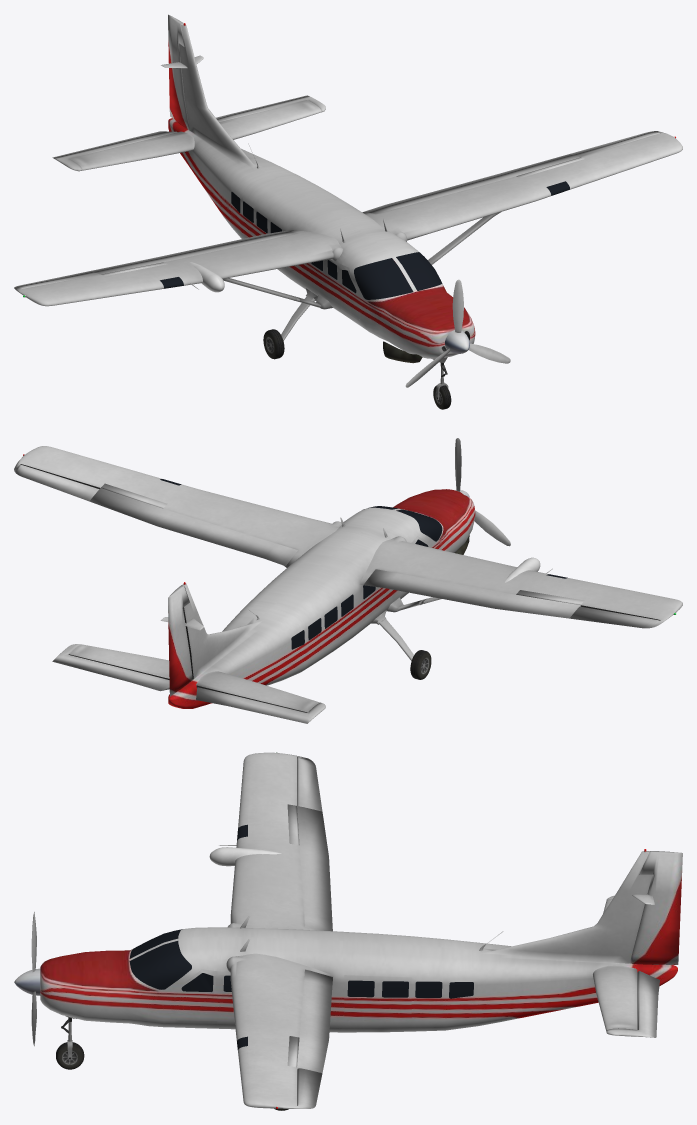
The model's file is cessna.obj.
3 renders of one model, top to bottom at view 1: azimuth 30°, elevation 25°; view 2: azimuth 150°, elevation 25°; view 3: azimuth 270°, elevation 25°, orthographic. The views are drawn at different scales.
Parts seen in each view (by area): view 1: body, propeller, flap_left, rudder, elevator, flap_right, aileron_left, aileron_right; view 2: body, flap_left, flap_right, elevator, rudder, aileron_left, aileron_right, propeller; view 3: body, rudder, flap_right, flap_left, elevator, aileron_right, aileron_left, propeller.
Boxes of the visible parts, left/top/right/bottom form: body: left=14, top=23, right=682, bottom=409; propeller: left=405, top=279, right=510, bottom=387; flap_left: left=364, top=154, right=579, bottom=214; rudder: left=168, top=14, right=189, bottom=129; elevator: left=52, top=95, right=325, bottom=171; flap_right: left=89, top=231, right=297, bottom=274; aileron_left: left=516, top=131, right=659, bottom=177; aileron_right: left=15, top=262, right=167, bottom=289; body: left=14, top=446, right=682, bottom=712; flap_left: left=89, top=488, right=297, bottom=566; flap_right: left=363, top=569, right=580, bottom=618; elevator: left=52, top=644, right=325, bottom=723; rudder: left=168, top=586, right=192, bottom=696; aileron_left: left=14, top=464, right=167, bottom=508; aileron_right: left=516, top=590, right=659, bottom=628; propeller: left=455, top=438, right=510, bottom=546; body: left=40, top=752, right=677, bottom=1110; rudder: left=630, top=851, right=682, bottom=964; flap_right: left=297, top=806, right=332, bottom=931; flap_left: left=297, top=969, right=332, bottom=1072; elevator: left=606, top=895, right=659, bottom=1037; aileron_right: left=287, top=757, right=322, bottom=845; aileron_left: left=287, top=1036, right=322, bottom=1108; propeller: left=14, top=912, right=40, bottom=1046.
Bounding box in the file's own units: 15.85 × 4.58 × 12.6.
4 materials, 1 textured.
